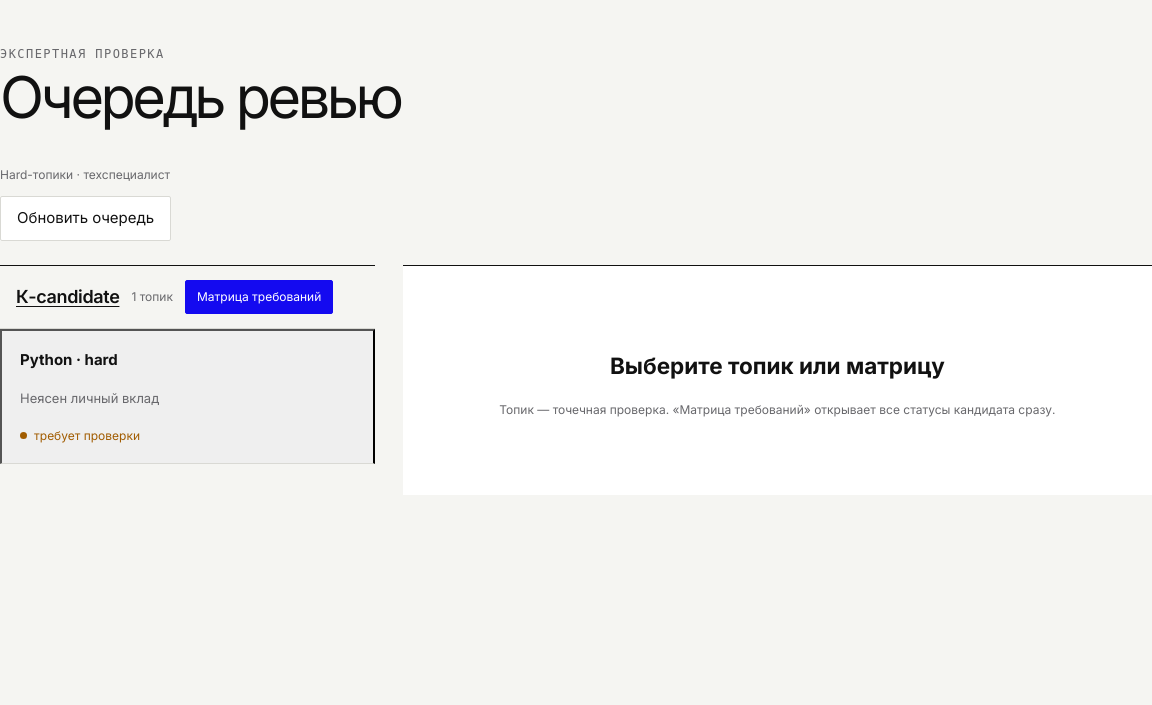
Test: removes topic from queue after save without status change
Click the button with aria-label "К-candidate: Python · hard".
click(46, 359)  # box [0, 329, 375, 464]
(page scrolled)
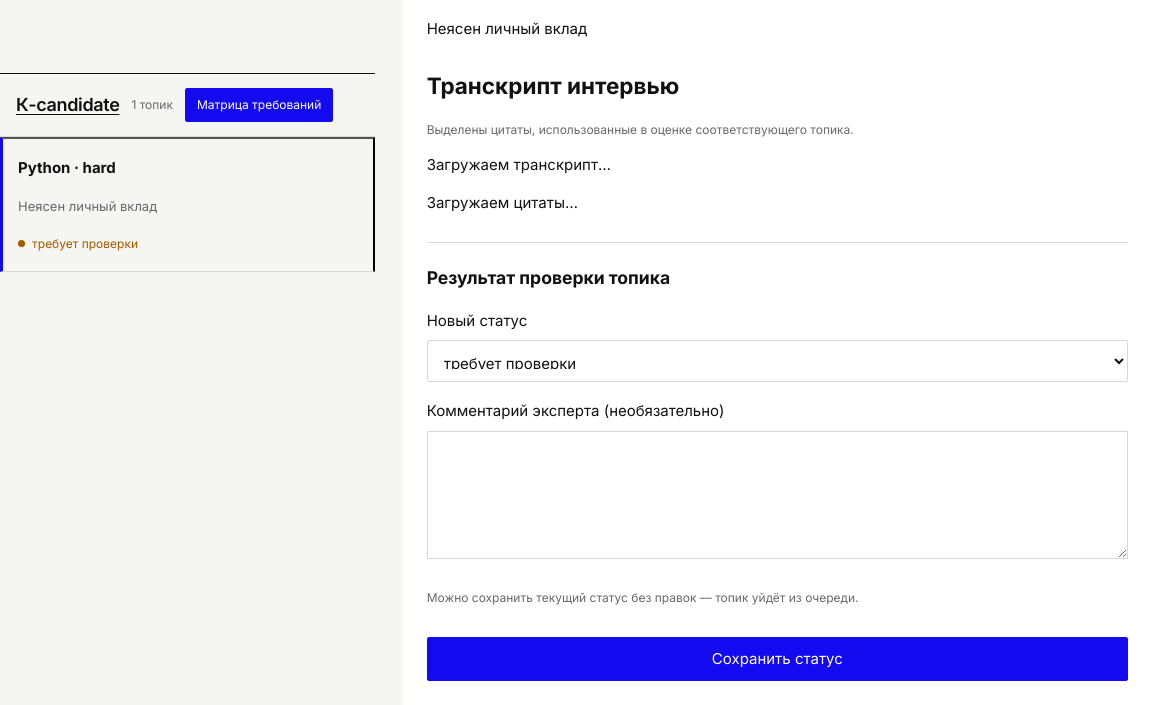
Click the button "Сохранить статус".
click(777, 659)  # box [427, 637, 1128, 681]
(page scrolled)
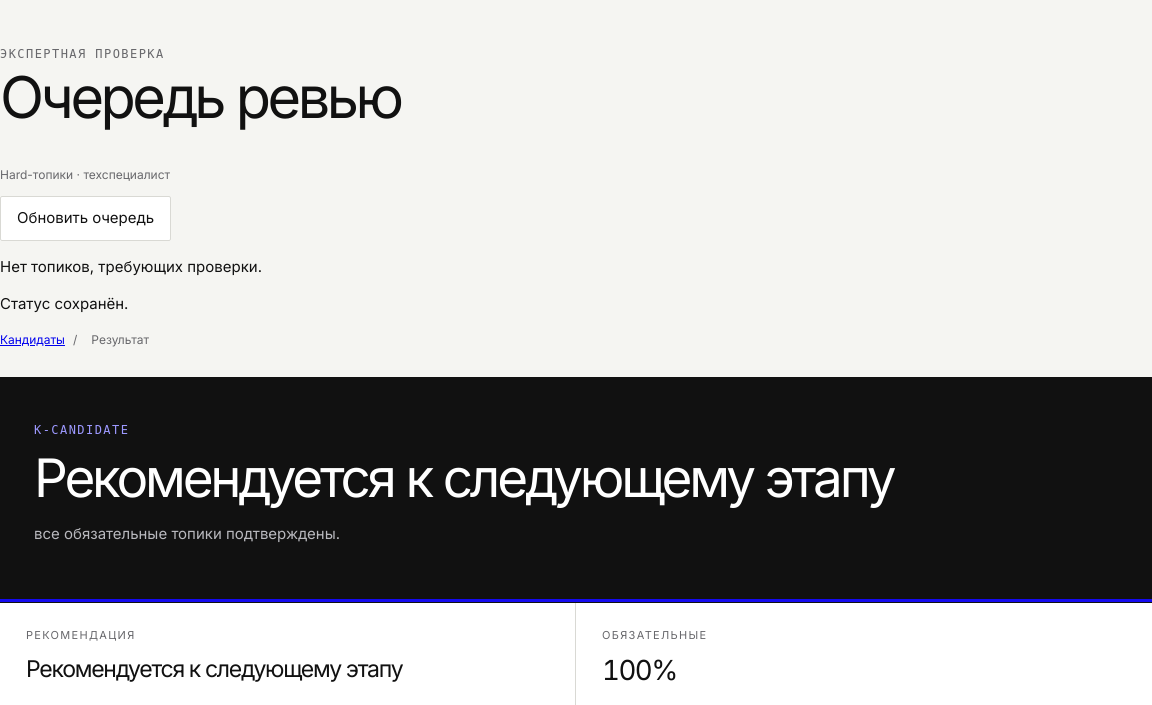
Expected: the text "Статус сохранён." is shown, [0, 294, 128, 313]
Expected: the text "Нет топиков, требующих проверки." is shown, [0, 257, 262, 276]
